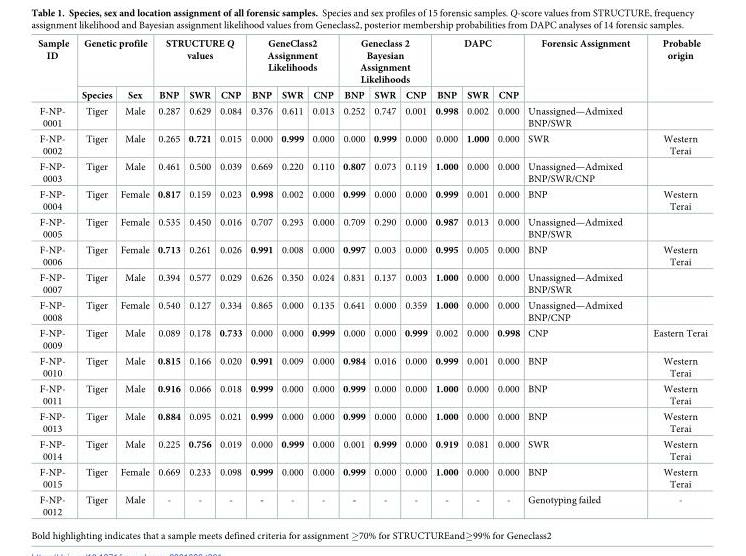table: (37, 36, 706, 516)
table column: (523, 36, 641, 516), (641, 36, 706, 516), (74, 36, 115, 516), (37, 36, 74, 516), (115, 36, 152, 516), (152, 36, 183, 516), (183, 36, 214, 516), (214, 36, 245, 516), (245, 36, 276, 516), (276, 36, 307, 516), (307, 36, 338, 516), (368, 36, 399, 516), (399, 36, 430, 516), (430, 36, 461, 516), (461, 36, 492, 516), (492, 36, 523, 516), (338, 36, 368, 516)
table column header: (37, 36, 706, 102)
table row: (37, 36, 706, 87), (37, 102, 706, 130), (37, 130, 706, 158), (37, 158, 706, 186), (37, 186, 706, 214), (37, 241, 706, 269), (37, 269, 706, 297), (37, 297, 706, 325), (37, 352, 706, 380), (37, 380, 706, 408), (37, 408, 706, 436), (37, 436, 706, 464), (37, 214, 706, 241), (37, 325, 706, 352), (37, 464, 706, 491), (37, 491, 706, 516), (37, 87, 706, 102)
table spanning cell: (523, 36, 641, 102), (152, 36, 245, 87), (245, 36, 338, 87), (430, 36, 523, 87), (338, 36, 430, 87), (641, 36, 706, 102), (74, 36, 152, 87), (37, 36, 74, 102)
